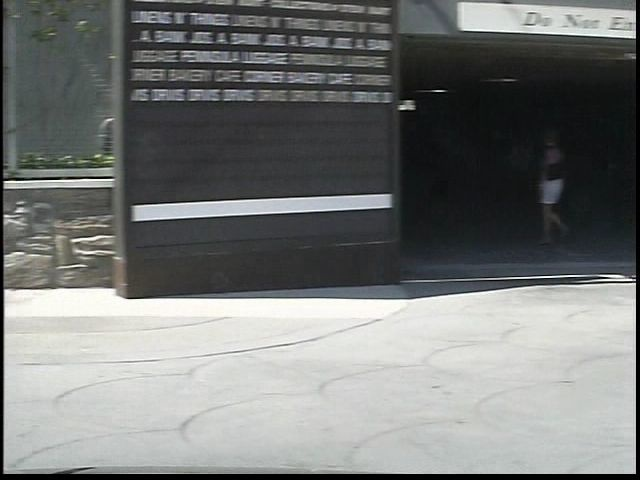person: (506, 126, 564, 252)
